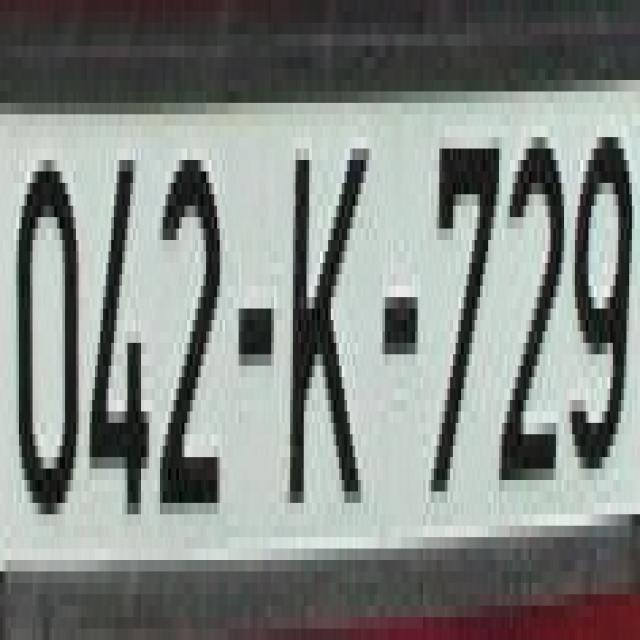0: (17, 148, 82, 526)
2: (154, 160, 230, 537), (504, 114, 554, 480)
4: (87, 126, 152, 514)
7: (423, 91, 496, 492)
9: (567, 103, 624, 480)
K: (274, 114, 366, 514)
